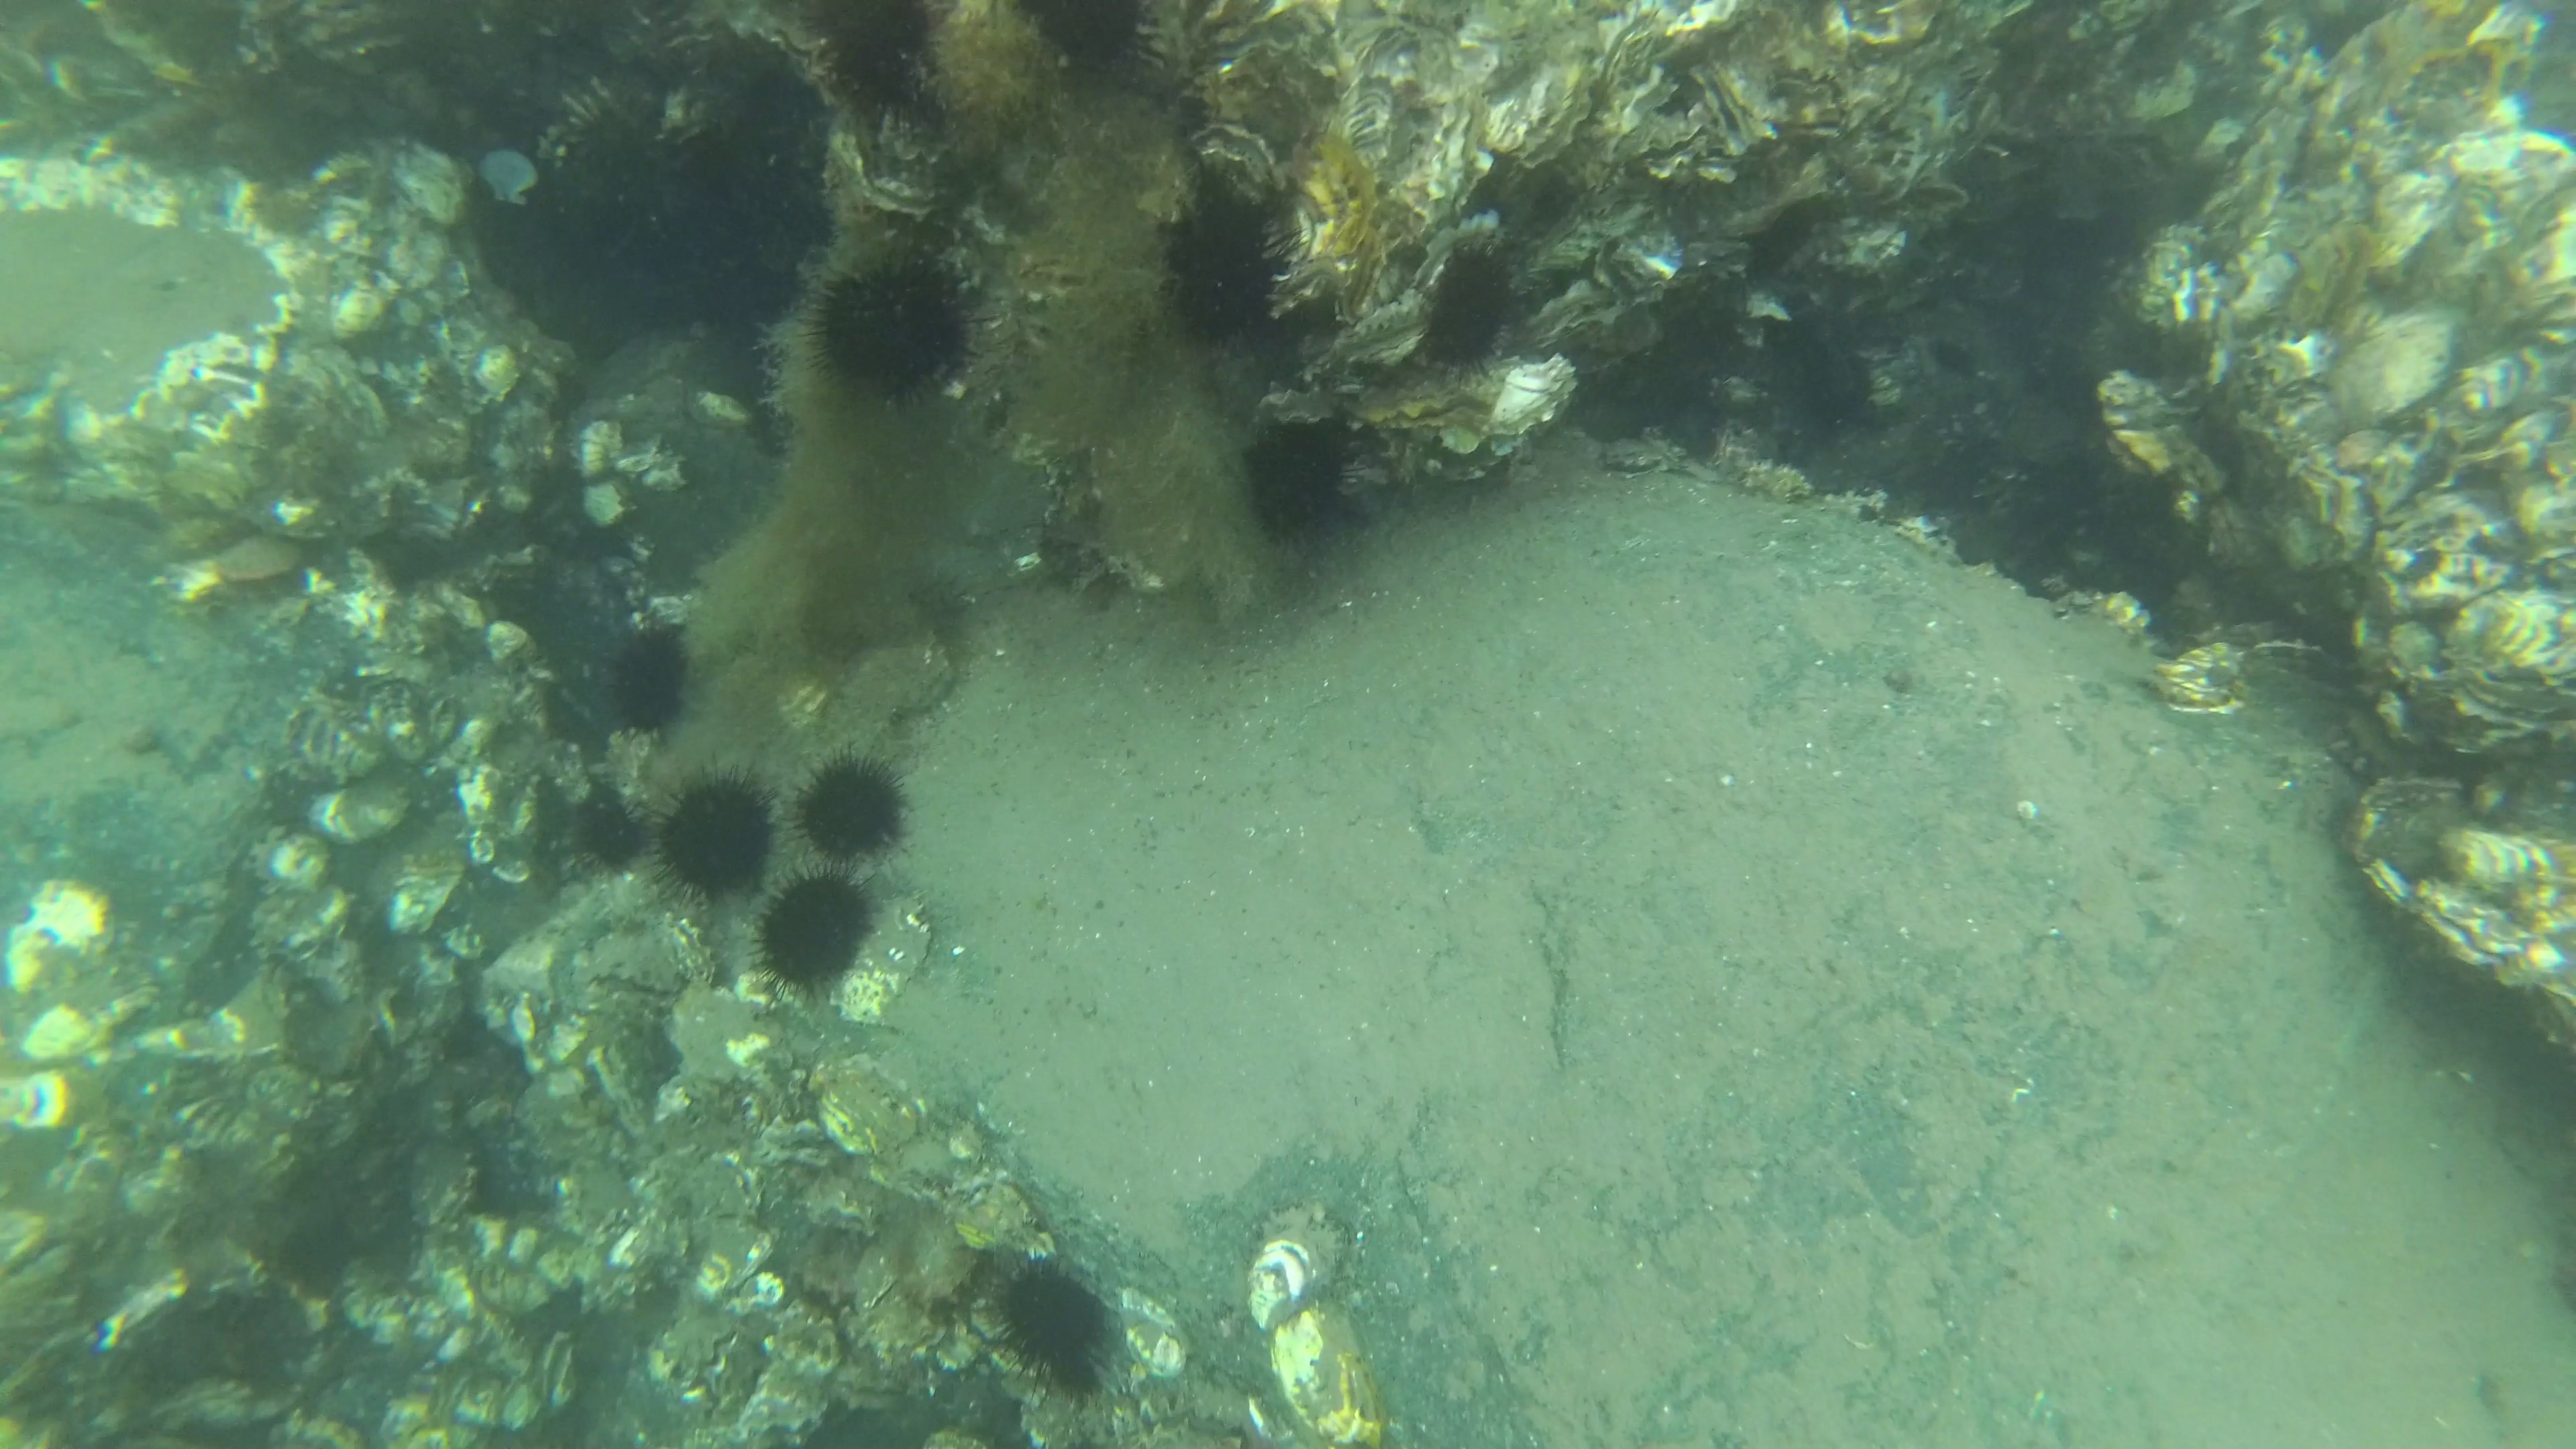echinus: (793, 244, 1008, 412), (980, 1253, 1122, 1403), (787, 738, 922, 872), (649, 763, 780, 899), (745, 867, 881, 998), (1240, 412, 1359, 552), (1415, 235, 1514, 373), (600, 619, 702, 734), (886, 586, 970, 679), (579, 786, 644, 870)
